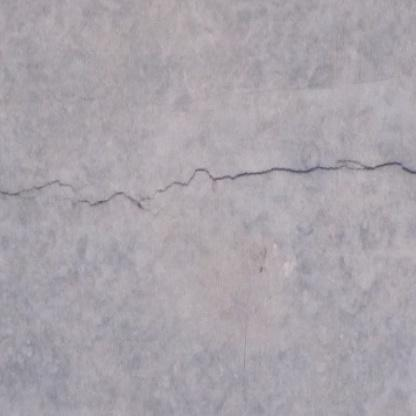Cracks: (153, 157, 416, 197), (0, 175, 78, 201), (77, 189, 147, 212)
